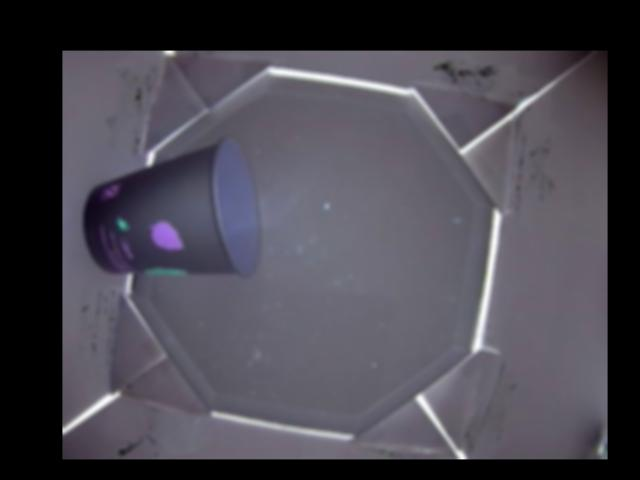Cup: (82, 136, 260, 278)
